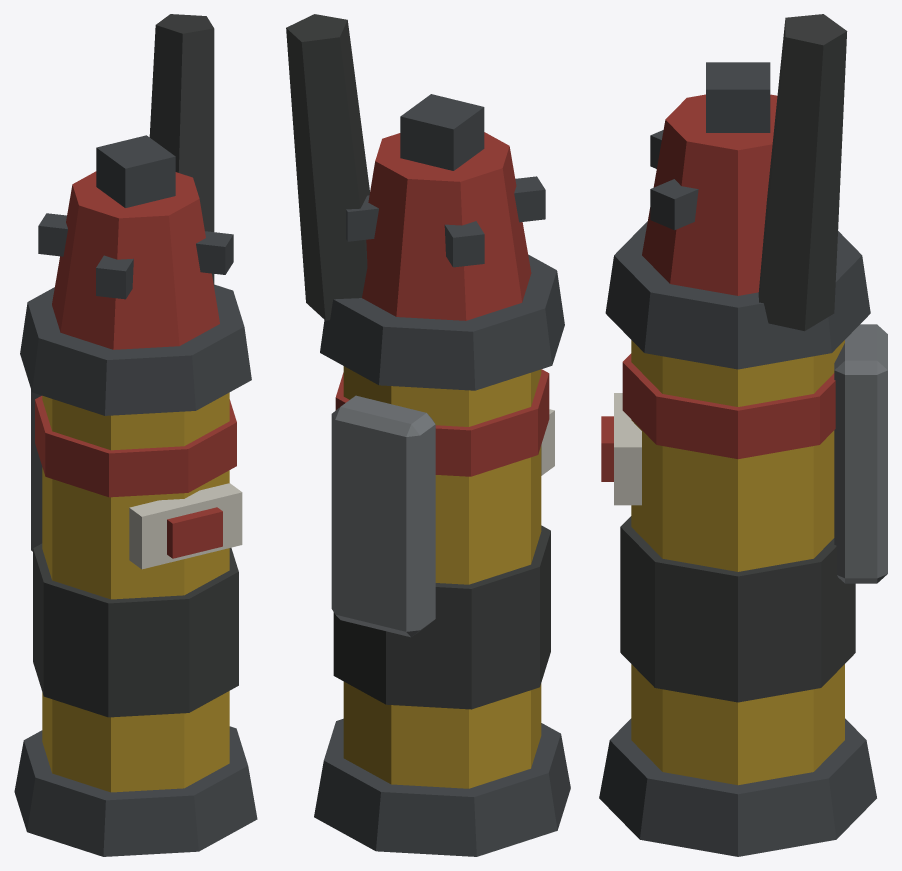
The model's file is item_evac_beacon.glb.
The picture shows the model from 3 angles, left to right: view 1: azimuth 30°, elevation 25°; view 2: azimuth 150°, elevation 25°; view 3: azimuth 270°, elevation 25°; orthographic projection. The views are drawn at different scales.
Parts seen in each view (by area): view 1: evac_beacon; view 2: evac_beacon; view 3: evac_beacon.
Boxes of the visible parts, left/top/right/bottom form: evac_beacon: left=14, top=14, right=257, bottom=856; evac_beacon: left=286, top=14, right=570, bottom=856; evac_beacon: left=599, top=14, right=887, bottom=856.
Bounding box in the file's own units: 0.1302 × 0.4215 × 0.135.
